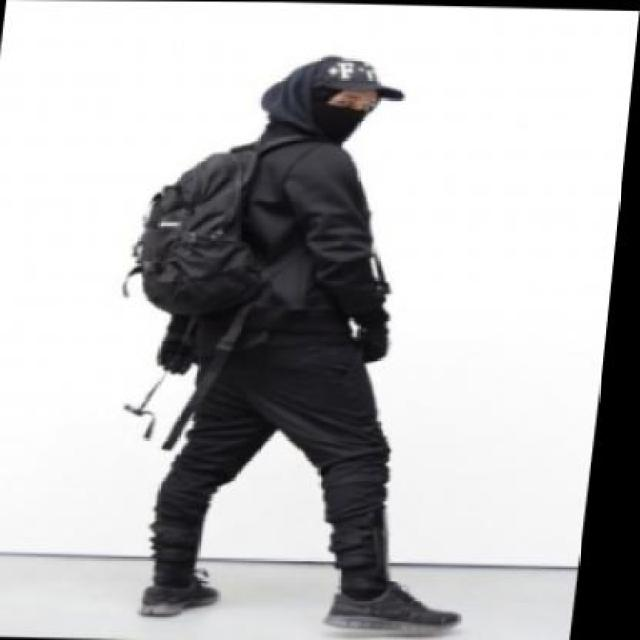hat: (309, 46, 420, 100)
